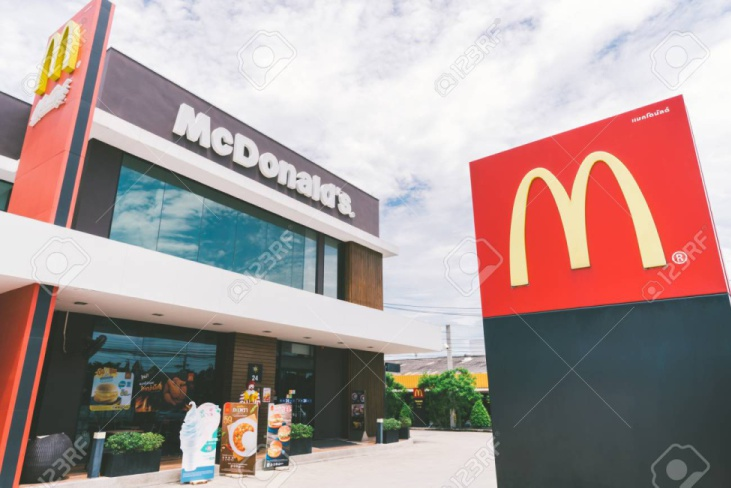mcdonalds: (497, 143, 673, 290)
